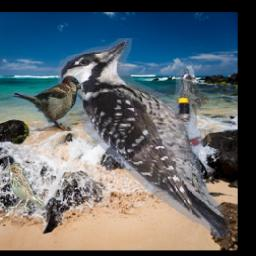Sparrow: (12, 75, 81, 131), (7, 163, 45, 211)
Woodpecker: (59, 38, 231, 237)
